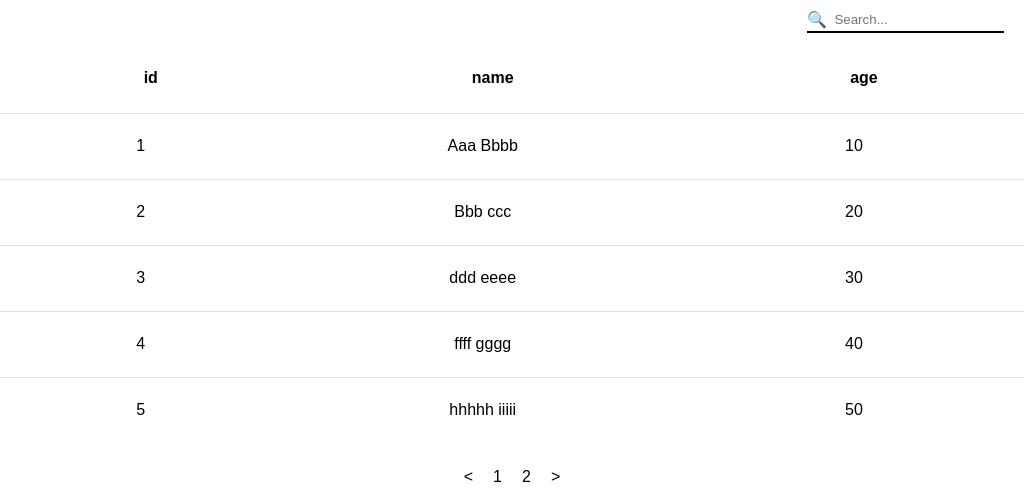
it: CustomTable › select last page and sorting by id, should give frists index,
Click the text "2" at point(526, 477), box [522,468,531,486]
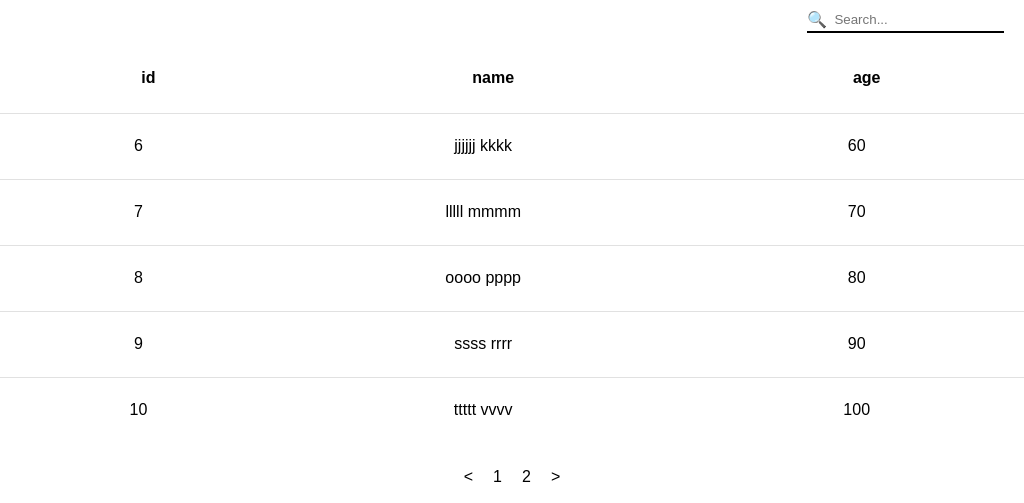
Expected: the text "oooo pppp" is shown, [277,245,690,311]
Click the text "id" at point(148, 77), box [136,64,161,91]
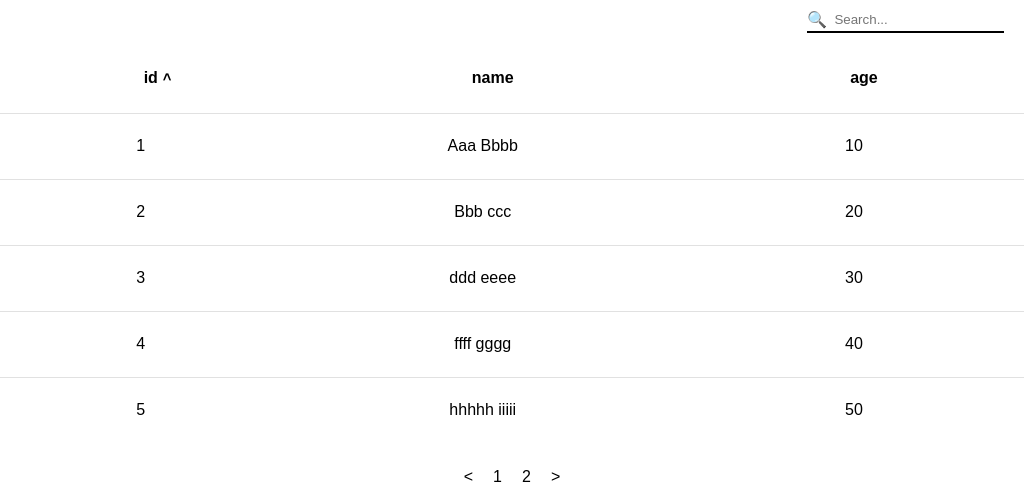
Expected: the text "Aaa Bbbb" is shown, [282,113,684,179]
